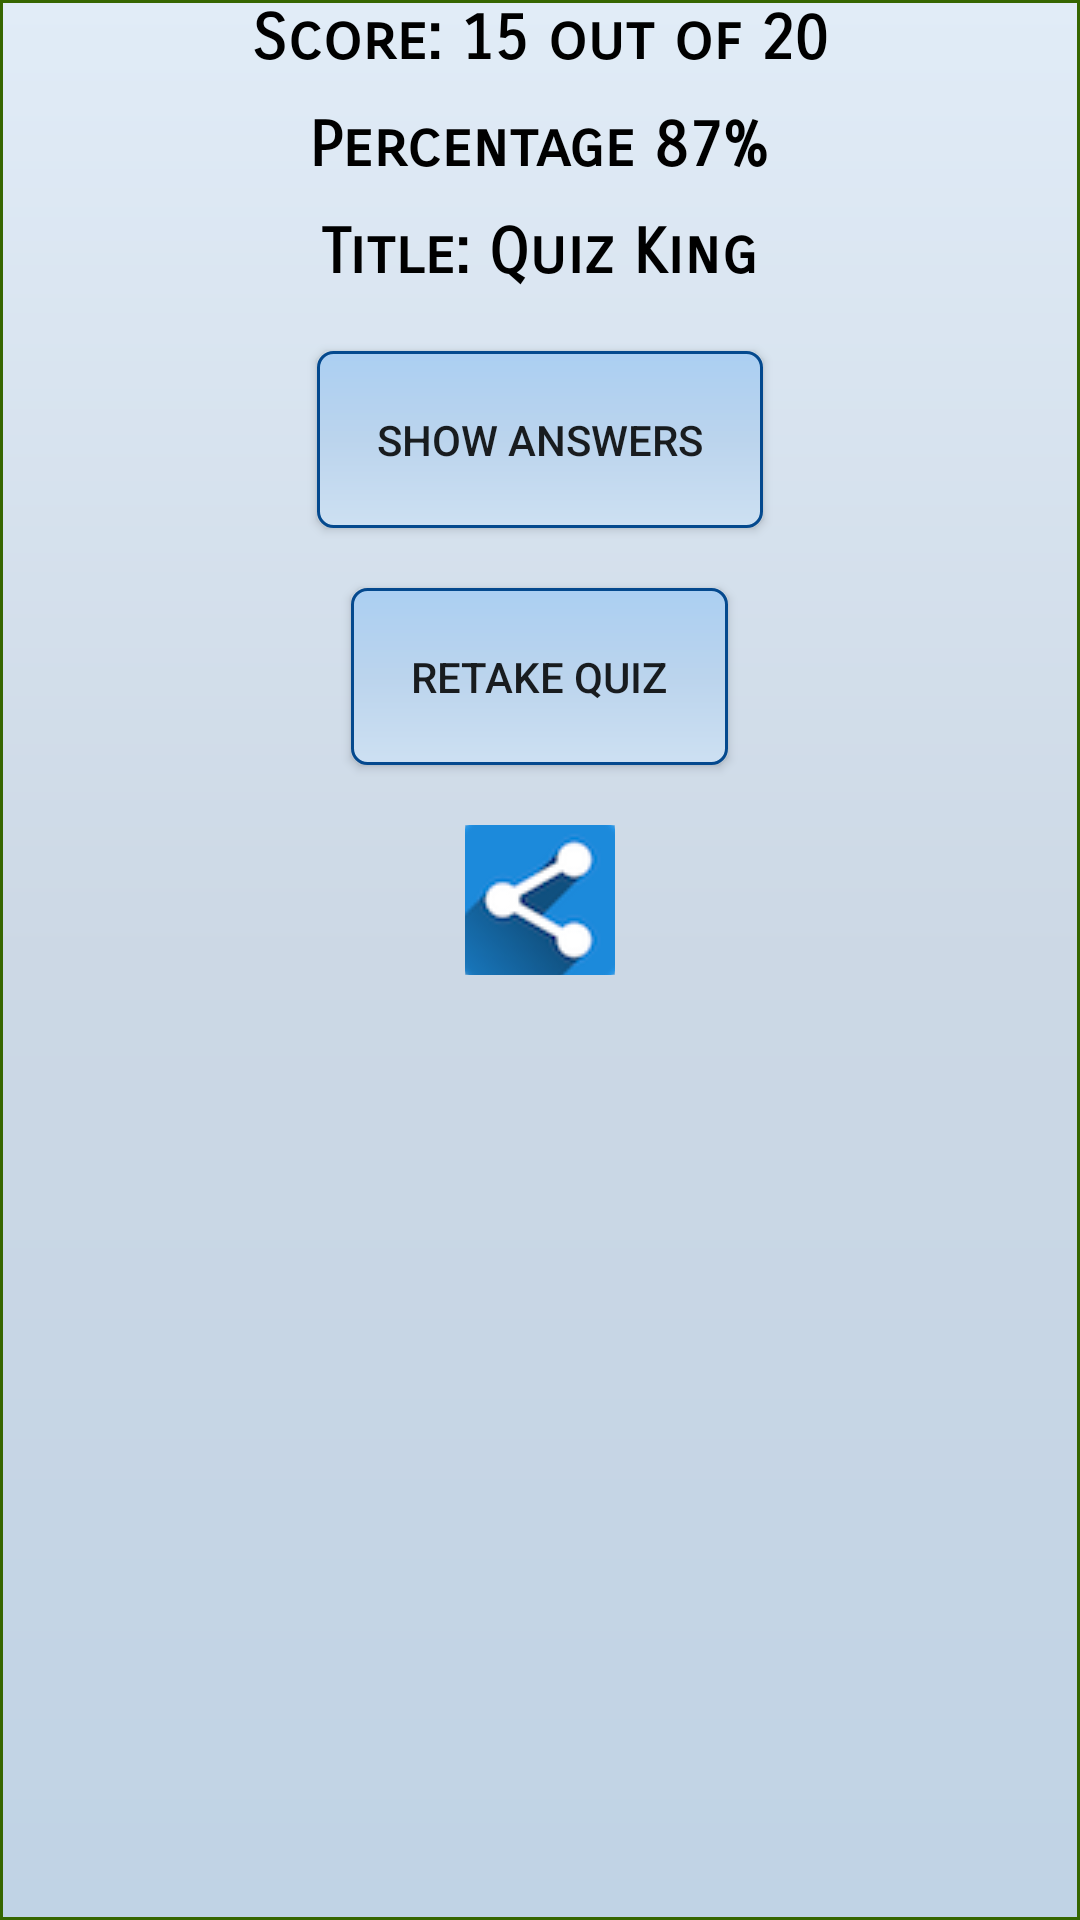

Screen size 1080 × 1920. Icon name, then its box in pixels as bbox=[x1, y1, x2, y2]:
share: bbox=[465, 825, 615, 975]
